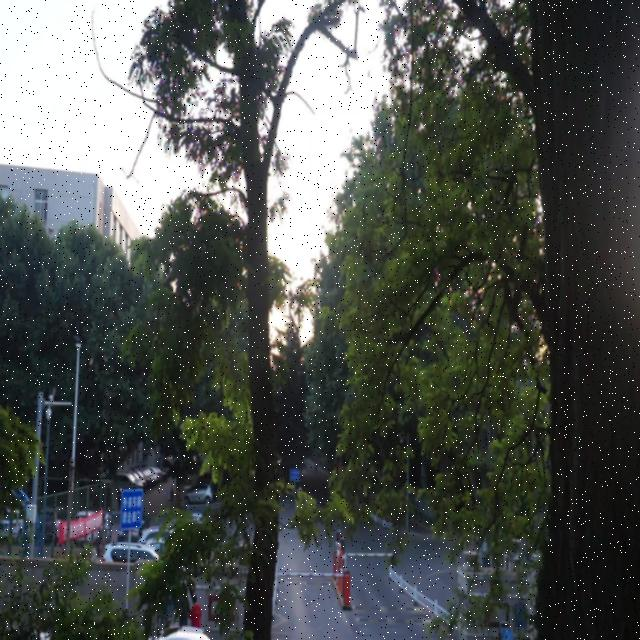UAV: (47, 227, 56, 232)
